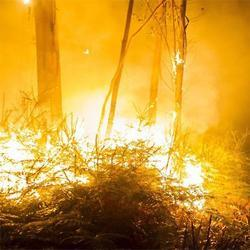fire: (64, 96, 103, 151), (0, 139, 29, 189), (127, 119, 168, 148), (184, 165, 201, 191)
